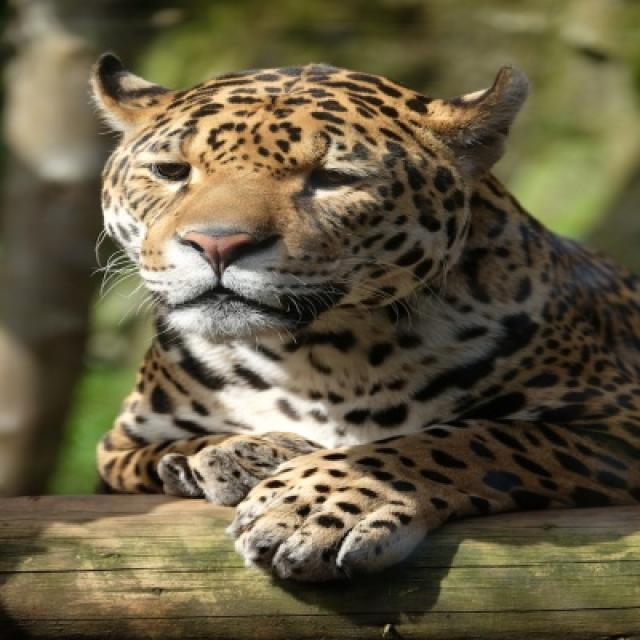Jaguar: (86, 53, 638, 587)
